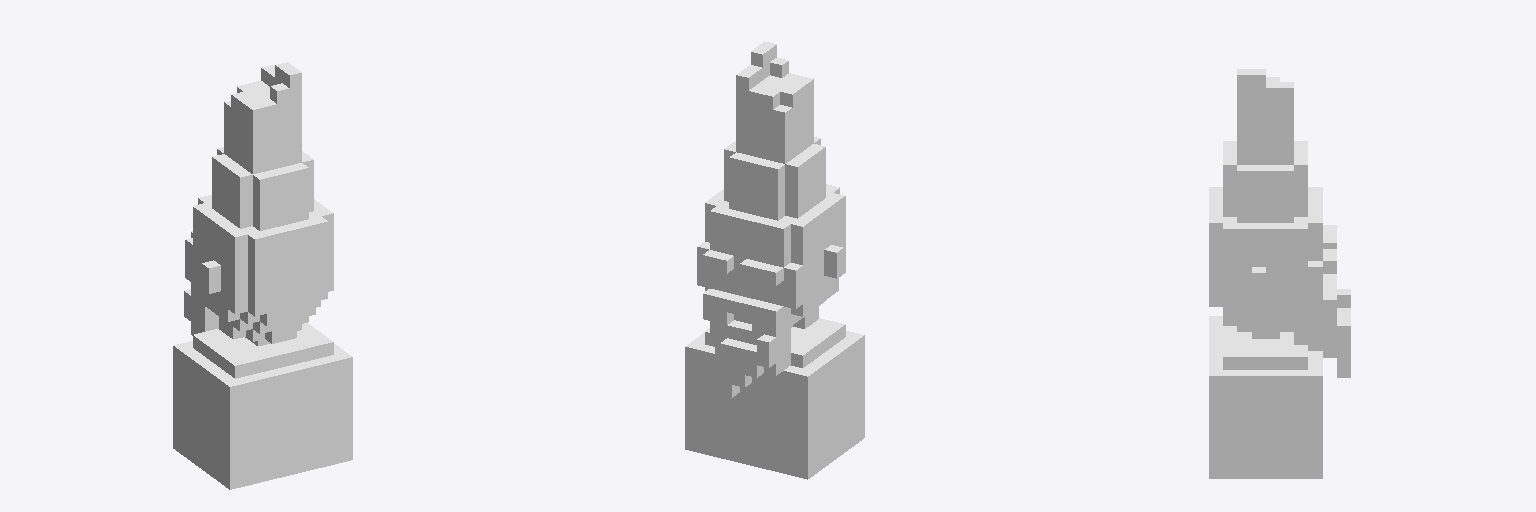
File: GnomeEndGame.obj
The picture shows the model from 3 angles: view 1: azimuth 30°, elevation 25°; view 2: azimuth 150°, elevation 25°; view 3: azimuth 270°, elevation 25°; orthographic projection.
Parts seen in each view (by area): view 1: GnomeEndGame; view 2: GnomeEndGame; view 3: GnomeEndGame.
Part boxes in pixels (x1,y1,x2,y2): GnomeEndGame: (173, 62, 352, 489); GnomeEndGame: (685, 41, 864, 479); GnomeEndGame: (1209, 69, 1350, 478).
Bounding box in the file's own units: 1 × 3 × 1.